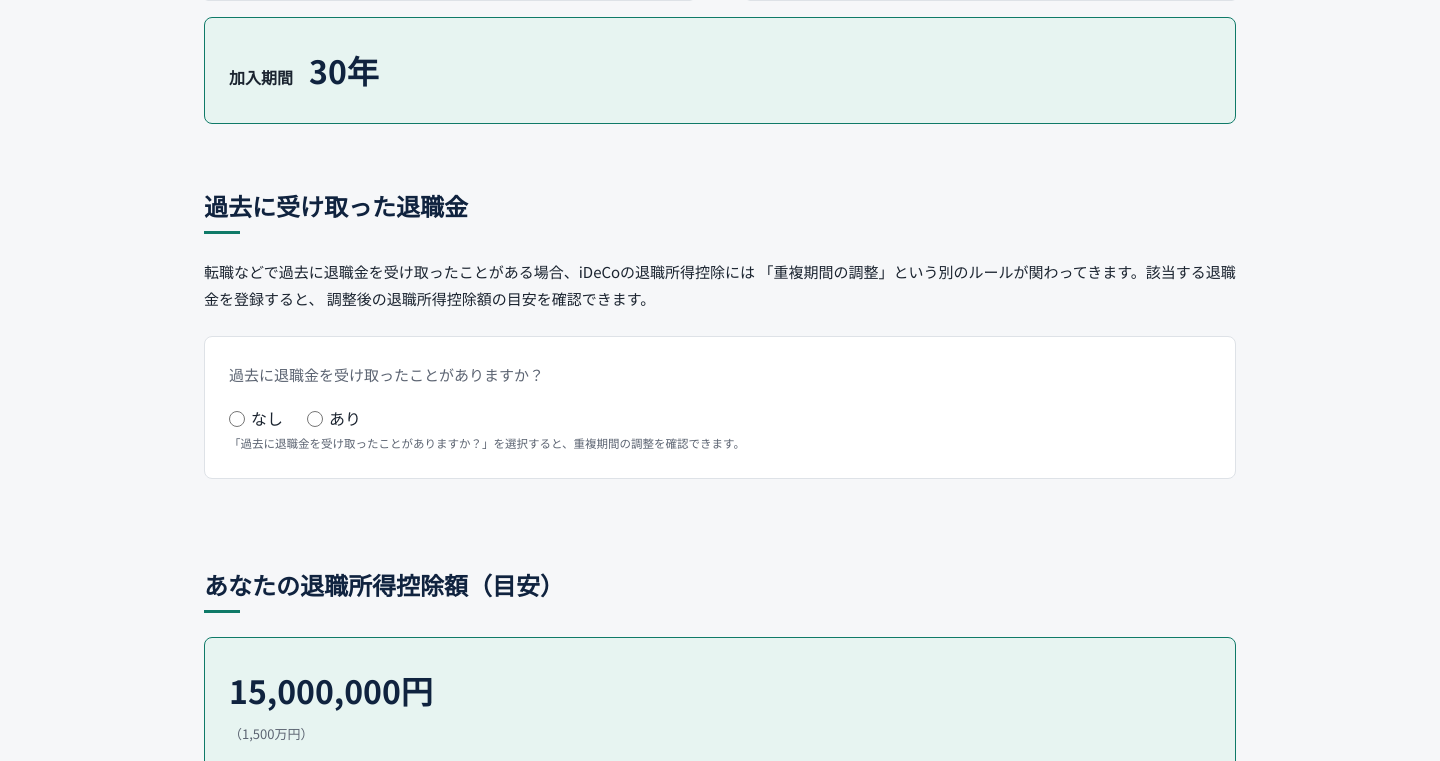
Test case: あなたの退職所得控除額（目安）に調整後の金額が反映される（重要なバグ修正の確認） › 「あり」から「なし」に切り替えると、結果が基本額に戻る
The width and height of the screenshot is (1440, 761).
(page scrolled)
Click the radio button labelled "あり": point(315, 419) left=307, top=411, right=323, bottom=427
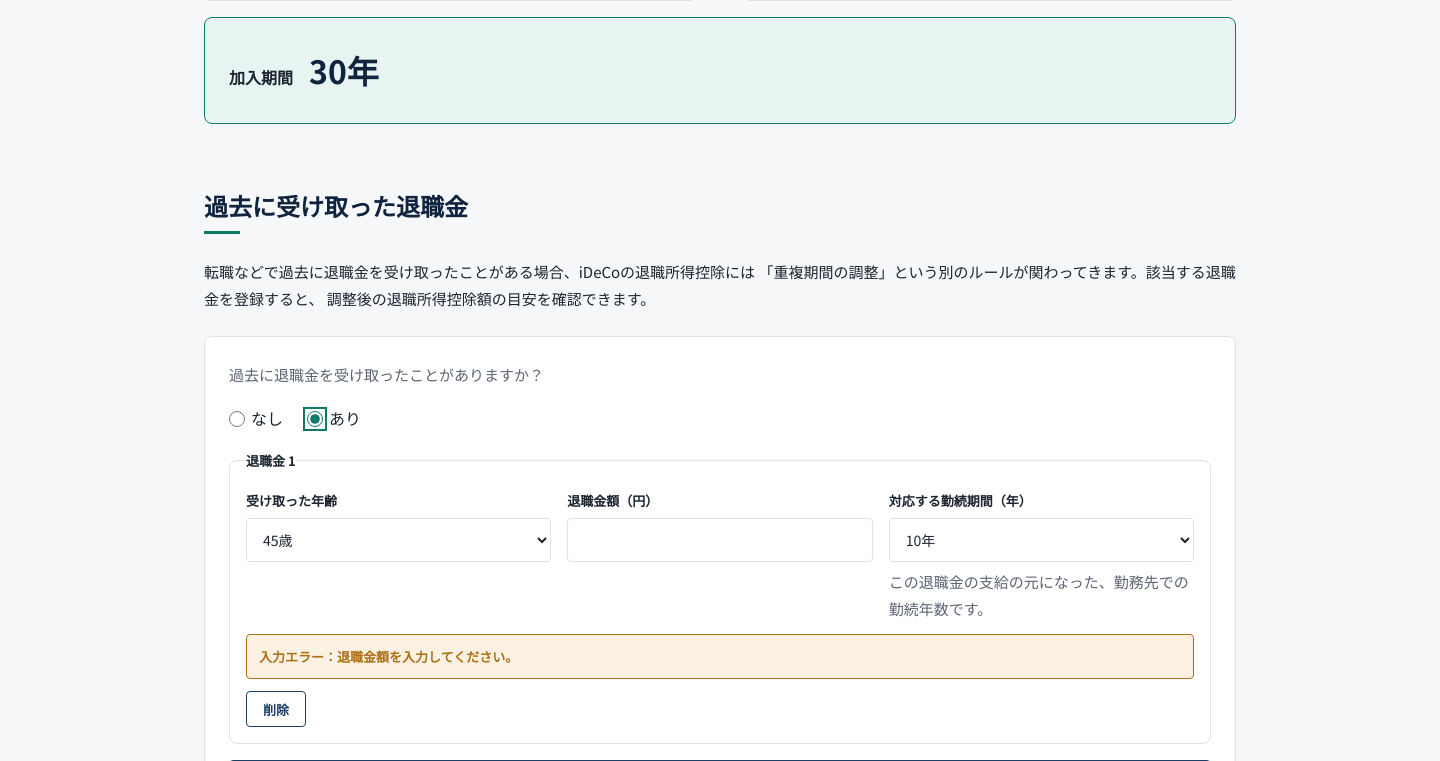
Select "45歳" in the dropdown labelled "受け取った年齢": point(399, 540) left=246, top=518, right=551, bottom=562
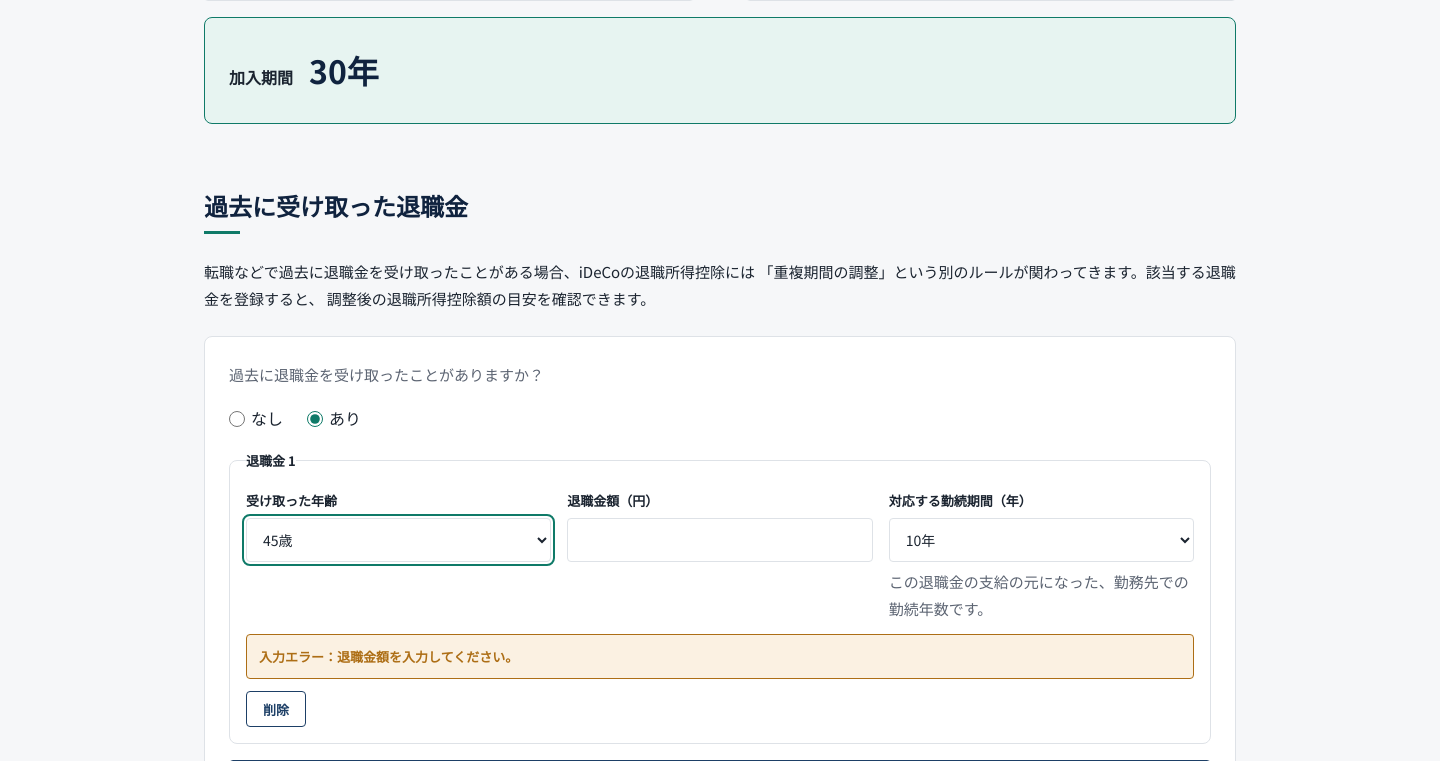
In the field labelled "退職金額（円）": point(720, 540) left=567, top=518, right=873, bottom=562, type "5000000"
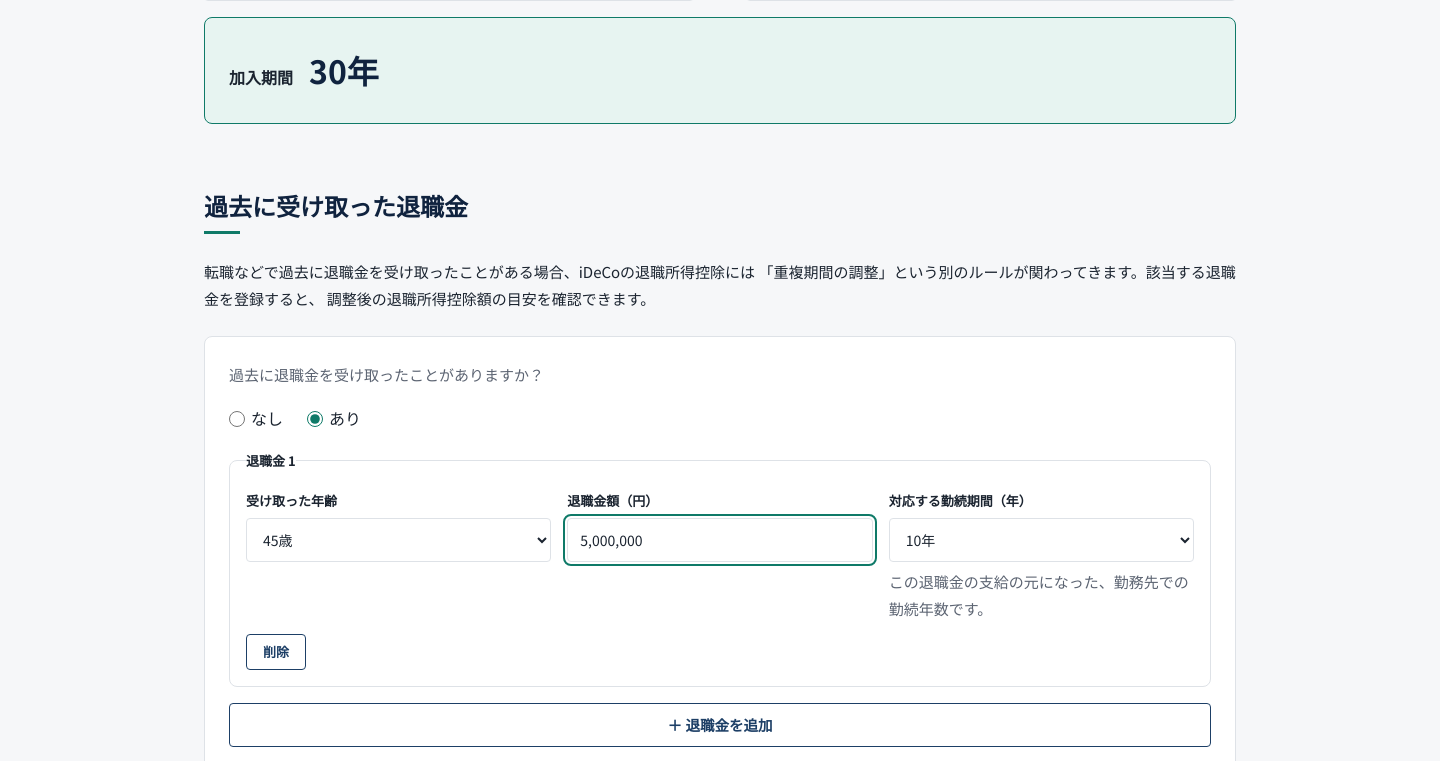
Select "10年" in the dropdown labelled "対応する勤続期間（年）": point(1041, 540) left=889, top=518, right=1194, bottom=562
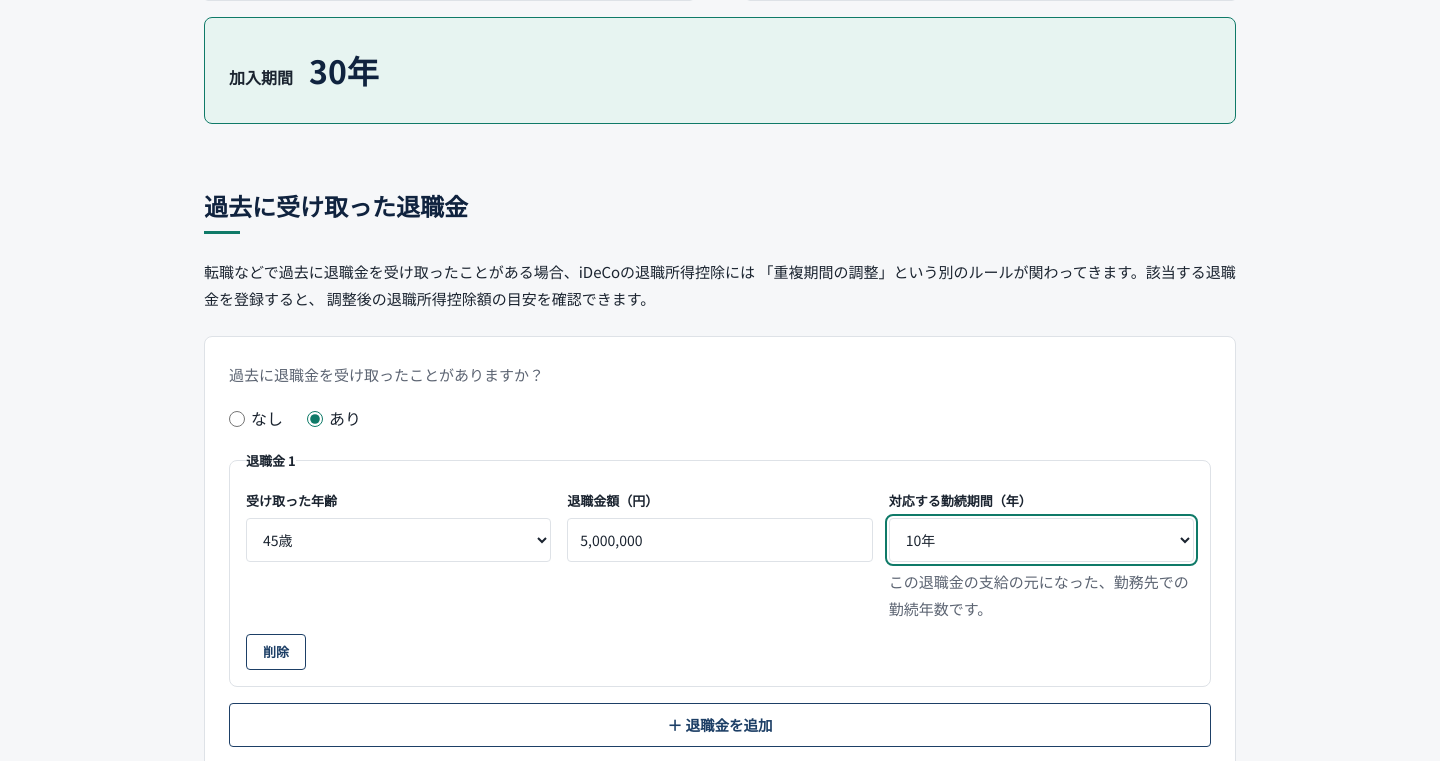
Click the radio button labelled "なし": point(237, 419) left=229, top=411, right=245, bottom=427
(page scrolled)
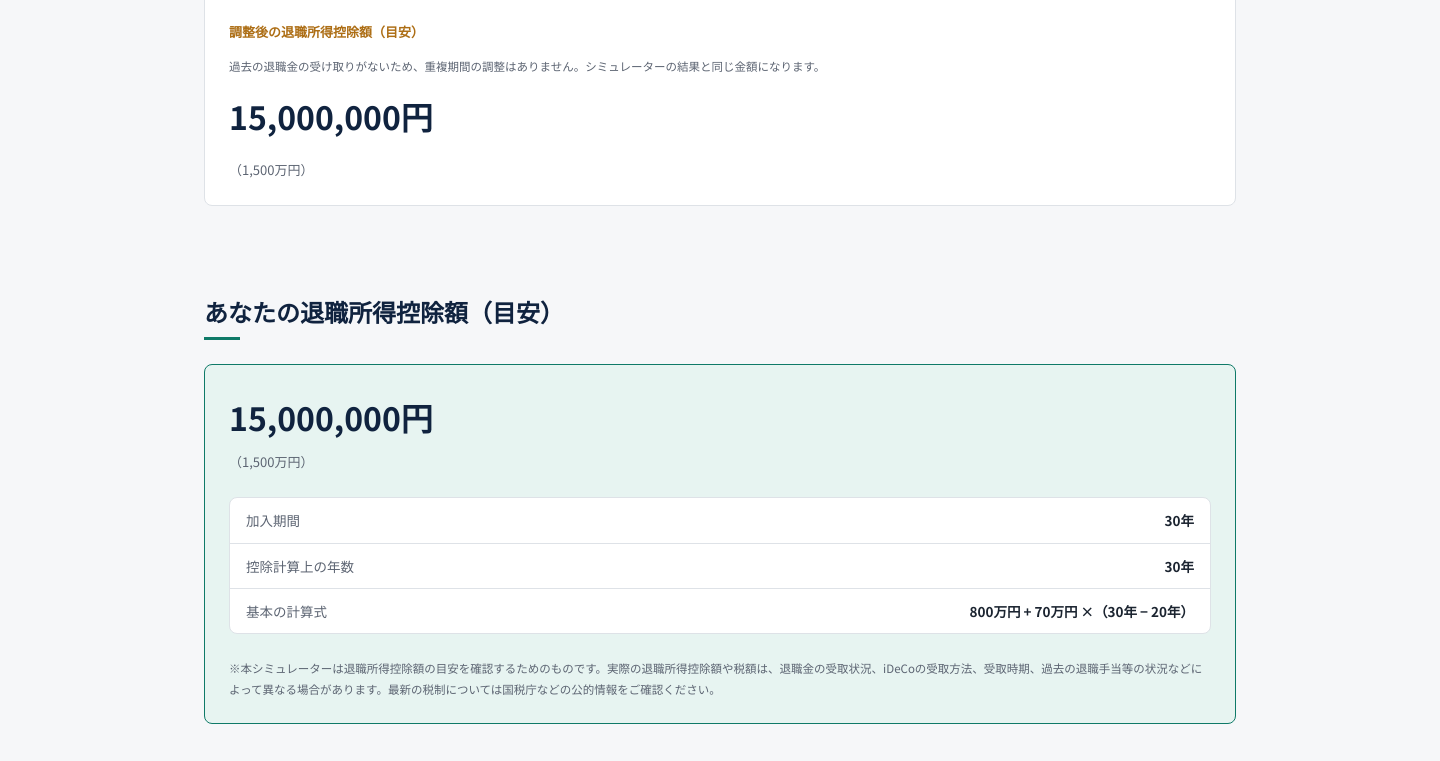
Result: the text "15,000,000円" below "あなたの退職所得控除額（目安）" is shown at left=229, top=394, right=433, bottom=440
